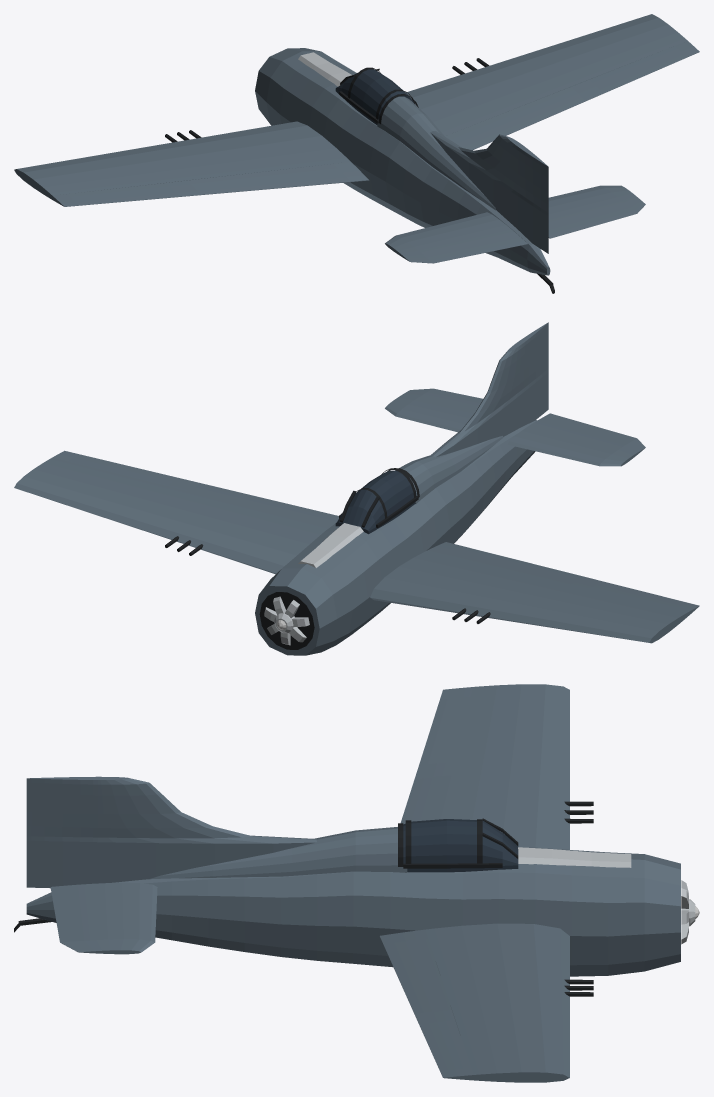
3 renders of one model, top to bottom at view 1: azimuth 30°, elevation 25°; view 2: azimuth 150°, elevation 25°; view 3: azimuth 270°, elevation 25°, orthographic. The views are drawn at different scales.
Visible parts, largest first — view 1: Fuselage, Wing L, Wing R, Vertical Fin, Dorsal Spine, Flap R, Rudder, Flap L, Stabilizer L, Stabilizer R, Cockpit Glass, Elevator L (+5 smaller); view 2: Fuselage, Wing R, Wing L, Vertical Fin, Stabilizer L, Cockpit Glass, Rudder, Dorsal Spine, Stabilizer R, Flap R, Flap L, Cowl Face (+7 smaller); view 3: Fuselage, Wing R, Wing L, Vertical Fin, Rudder, Dorsal Spine, Cockpit Glass, Stabilizer R, Flap R, Elevator R, Aileron L, Glare Panel (+4 smaller).
Part boxes in pixels (x1=…): Fuselage: x1=255, y1=48, x2=550, y2=275; Wing L: x1=14, y1=121, x2=369, y2=206; Wing R: x1=406, y1=14, x2=699, y2=135; Vertical Fin: x1=430, y1=131, x2=522, y2=229; Dorsal Spine: x1=377, y1=96, x2=495, y2=210; Flap R: x1=445, y1=87, x2=585, y2=150; Rudder: x1=517, y1=145, x2=548, y2=253; Flap L: x1=187, y1=164, x2=350, y2=194; Stabilizer L: x1=385, y1=212, x2=512, y2=256; Stabilizer R: x1=548, y1=185, x2=636, y2=221; Cockpit Glass: x1=335, y1=69, x2=414, y2=124; Elevator L: x1=401, y1=231, x2=527, y2=263; Fuselage: x1=255, y1=420, x2=537, y2=655; Wing R: x1=14, y1=450, x2=330, y2=574; Wing L: x1=370, y1=542, x2=699, y2=643; Vertical Fin: x1=430, y1=342, x2=522, y2=457; Stabilizer L: x1=507, y1=421, x2=637, y2=466; Cockpit Glass: x1=335, y1=470, x2=416, y2=534; Rudder: x1=517, y1=322, x2=548, y2=426; Dorsal Spine: x1=395, y1=436, x2=503, y2=503; Stabilizer R: x1=385, y1=395, x2=477, y2=432; Flap R: x1=187, y1=483, x2=338, y2=526; Flap L: x1=444, y1=546, x2=584, y2=584; Cowl Face: x1=259, y1=592, x2=314, y2=649; Fuselage: x1=26, y1=847, x2=680, y2=976; Wing R: x1=379, y1=923, x2=593, y2=1082; Wing L: x1=414, y1=684, x2=593, y2=849; Vertical Fin: x1=98, y1=776, x2=316, y2=883; Rudder: x1=26, y1=776, x2=97, y2=888; Dorsal Spine: x1=150, y1=827, x2=407, y2=879; Cockpit Glass: x1=403, y1=819, x2=518, y2=872; Stabilizer R: x1=87, y1=882, x2=157, y2=954; Flap R: x1=383, y1=938, x2=451, y2=1013; Elevator R: x1=50, y1=884, x2=99, y2=953; Aileron L: x1=419, y1=696, x2=470, y2=765; Glare Panel: x1=518, y1=847, x2=631, y2=867.
Bounding box in the file's own units: 11.58 × 2.68 × 8.65.
